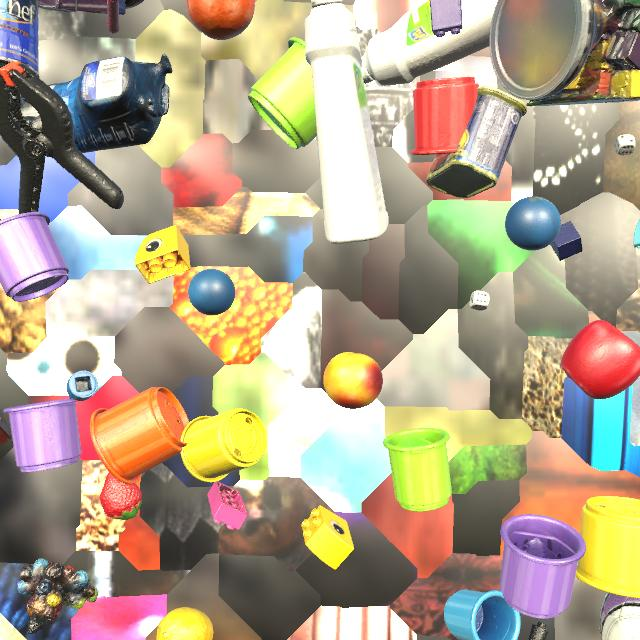ycb_002_master_chef_can: (0, 0, 39, 77)
ycb_010_potted_meat_can: (426, 86, 527, 198)
ycb_012_strawberry: (100, 472, 142, 520)
ycb_013_apple: (561, 320, 640, 399)
ycb_014_lemon: (156, 607, 213, 640)
ycb_015_peach: (323, 352, 383, 409)
ycb_017_orange: (187, 0, 255, 40)
